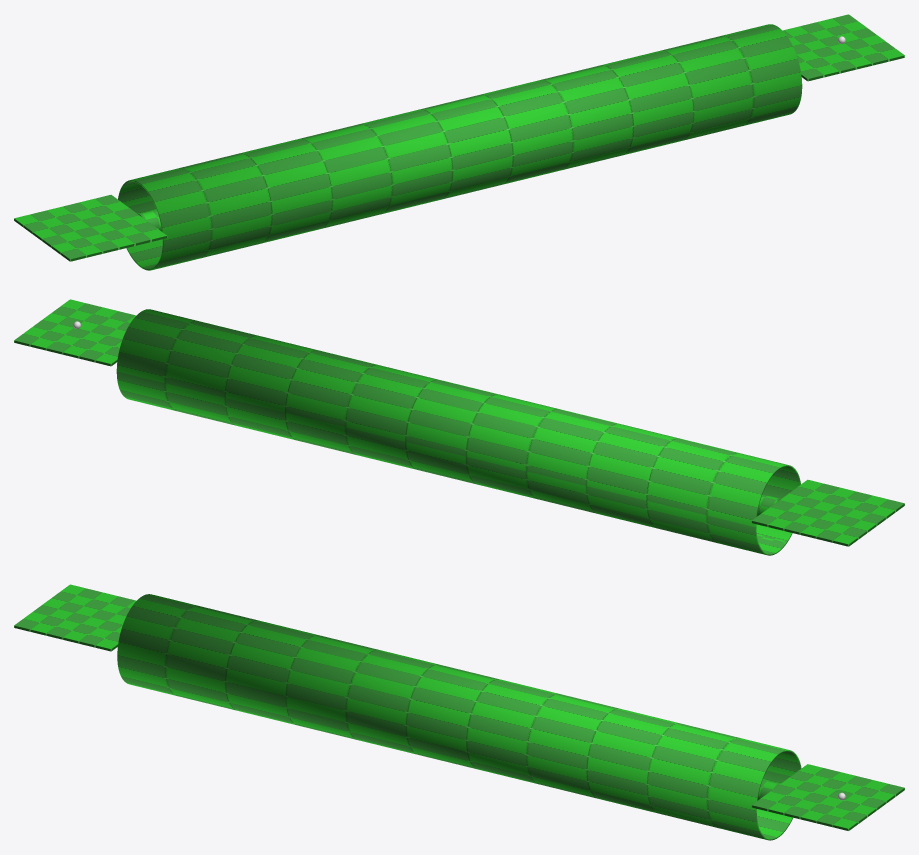
Rendered from CylinderSpin.fbx.
3 views of the same model, one above another, from view 1: azimuth 30°, elevation 25°; view 2: azimuth 150°, elevation 25°; view 3: azimuth 330°, elevation 25° (orthographic).
Visible parts, largest first — view 1: OuterCylinder, EndingPlatform, StartingPlatform; view 2: OuterCylinder, EndingPlatform, StartingPlatform; view 3: OuterCylinder, StartingPlatform, EndingPlatform.
Part boxes in pixels (x1=…): OuterCylinder: x1=118, y1=24, x2=802, y2=270; EndingPlatform: x1=14, y1=194, x2=167, y2=261; StartingPlatform: x1=782, y1=14, x2=904, y2=81; OuterCylinder: x1=116, y1=309, x2=800, y2=555; EndingPlatform: x1=751, y1=479, x2=904, y2=546; StartingPlatform: x1=14, y1=299, x2=136, y2=366; OuterCylinder: x1=117, y1=594, x2=801, y2=840; StartingPlatform: x1=751, y1=764, x2=904, y2=830; EndingPlatform: x1=14, y1=584, x2=136, y2=651.
Bounding box in the file's own units: 379 × 36.48 × 44.19.
